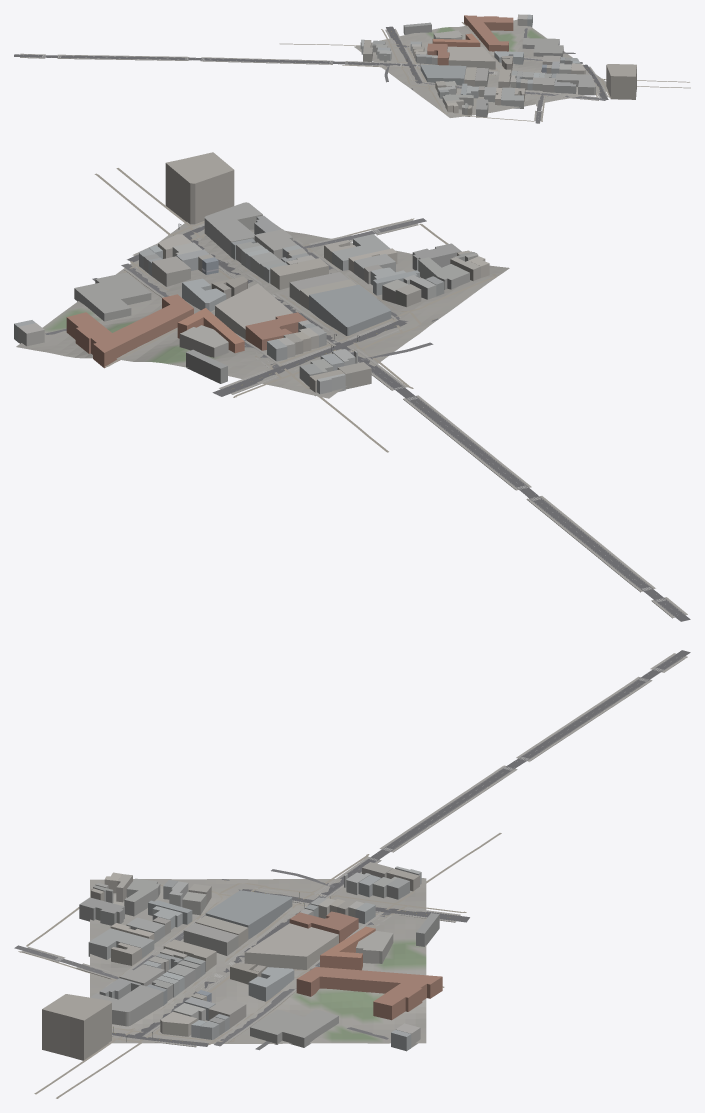
File: tile_-5_-4.glb
3 views of the same model, one above another, from view 1: azimuth 30°, elevation 25°; view 2: azimuth 150°, elevation 25°; view 3: azimuth 270°, elevation 25° (orthographic). The views are drawn at different scales.
Visible parts, largest first — view 1: buildings, terrain, roads, sidewalks, paths; view 2: buildings, terrain, roads, sidewalks, paths; view 3: buildings, terrain, roads, sidewalks, paths.
Boxes of the visible parts, left/top/right/bottom form: buildings: left=360, top=14, right=636, bottom=117; terrain: left=354, top=19, right=607, bottom=117; roads: left=14, top=26, right=608, bottom=123; sidewalks: left=20, top=28, right=608, bottom=120; paths: left=279, top=22, right=690, bottom=121; buildings: left=14, top=152, right=489, bottom=396; terrain: left=16, top=221, right=509, bottom=398; roads: left=45, top=218, right=690, bottom=621; sidewalks: left=124, top=219, right=687, bottom=618; paths: left=94, top=168, right=496, bottom=452; buildings: left=42, top=862, right=442, bottom=1060; terrain: left=90, top=878, right=426, bottom=1043; roads: left=14, top=650, right=690, bottom=1050; sidewalks: left=21, top=653, right=687, bottom=1047; paths: left=18, top=833, right=501, bottom=1098.
Size of the model in its own units: 761 by 34.26 by 516.
